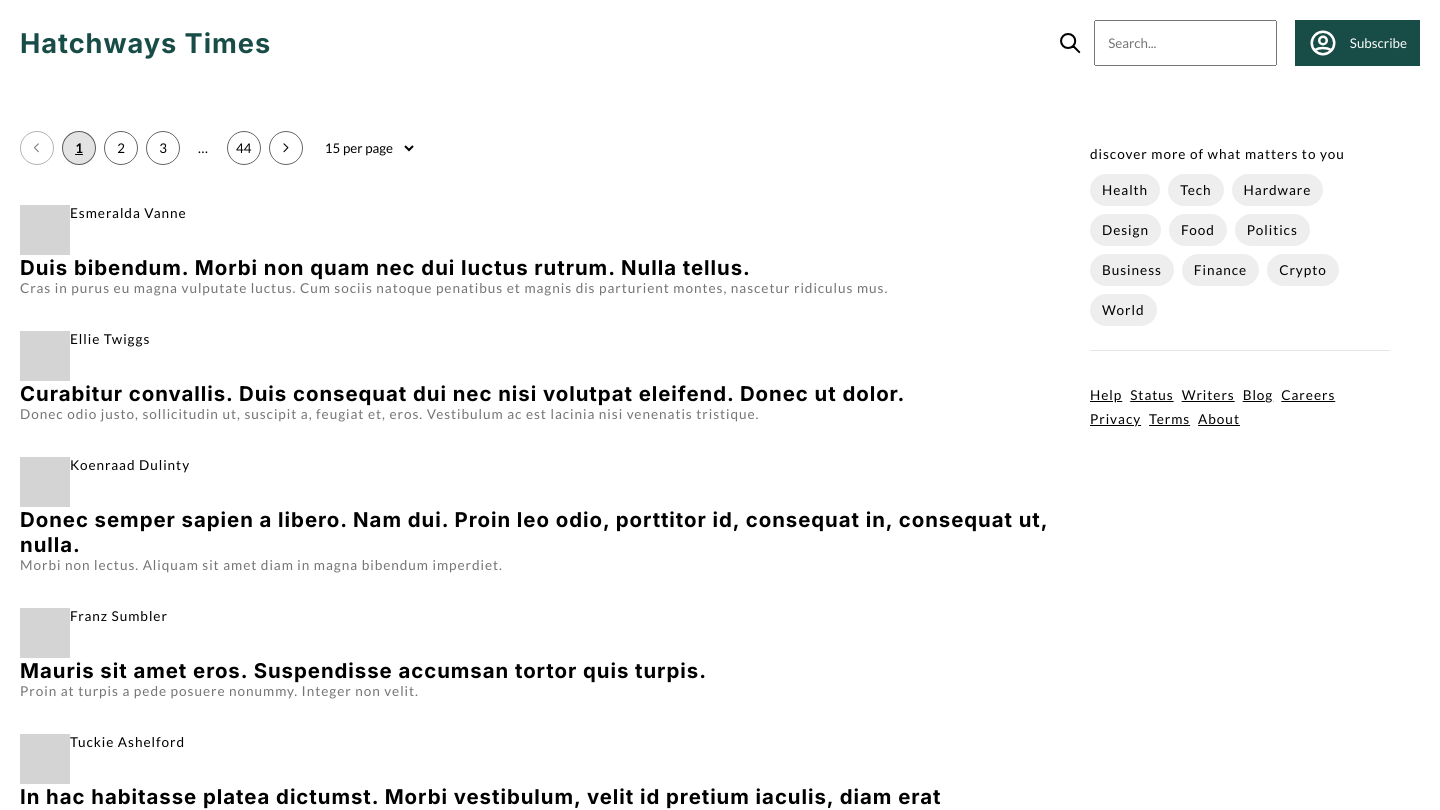
Test case: Changing page size from 15 to 25 should render 25 posts
The image size is (1440, 810).
Select "25 per page" in the dropdown named "Select page size" at (369, 148), box [321, 139, 417, 157]
(page scrolled)
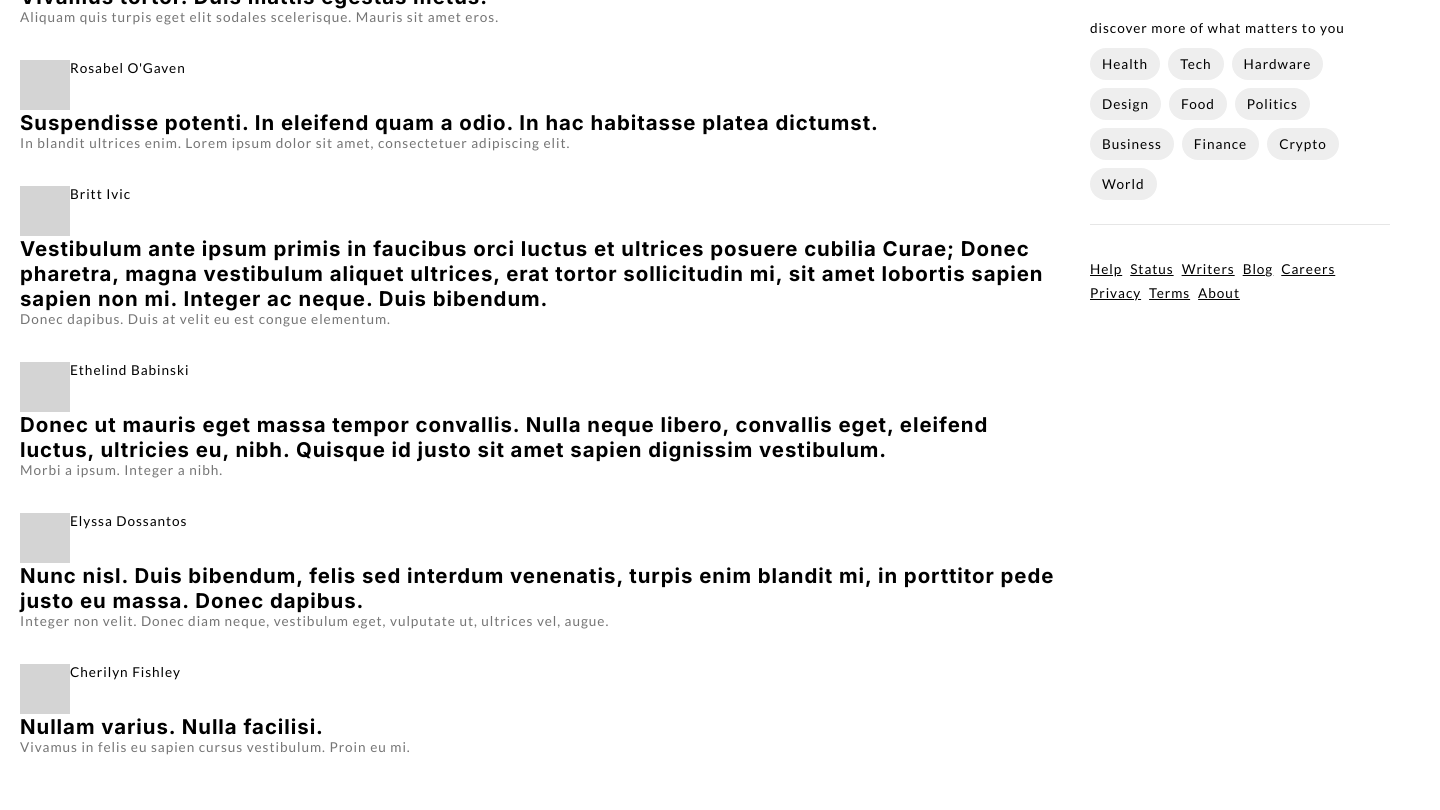
Result: the text "Aliquam quis turpis eget elit sodales scelerisque. Mauris sit amet eros." is shown at [20, 9, 499, 25]
Result: the heading "Suspendisse potenti. In eleifend quam a odio. In hac habitasse platea dictumst." is shown at [20, 110, 879, 135]
Result: the text "Rosabel O'Gaven" is shown at [70, 60, 186, 76]
